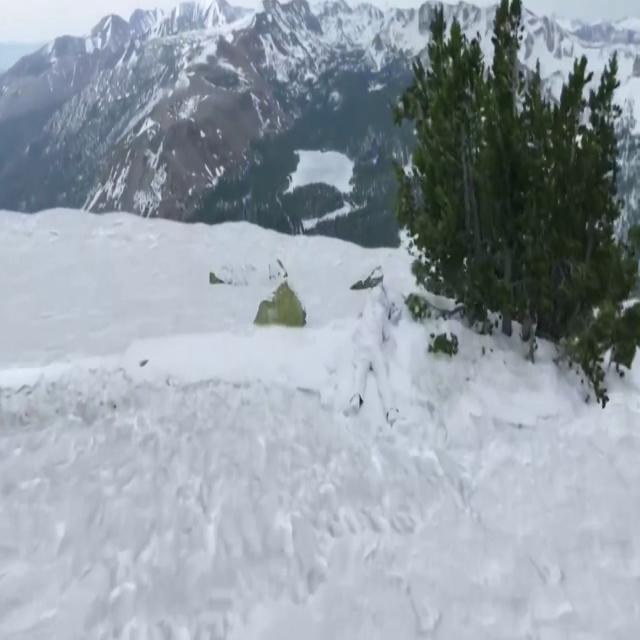human: (350, 284, 402, 421)
